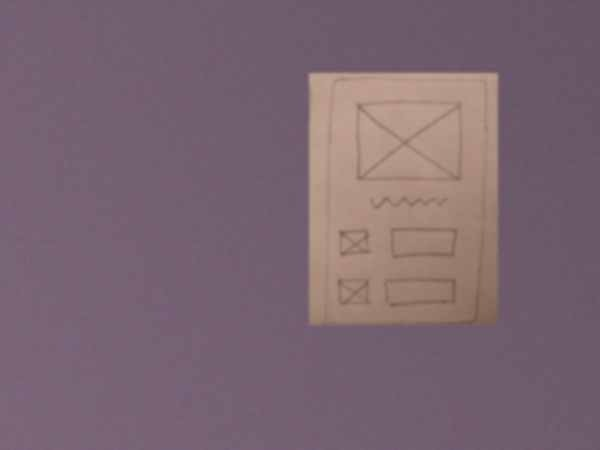image: (351, 97, 464, 186), (336, 228, 373, 260), (335, 277, 371, 309)
text: (366, 193, 448, 212)
text_input: (387, 226, 459, 262), (382, 275, 458, 308)
